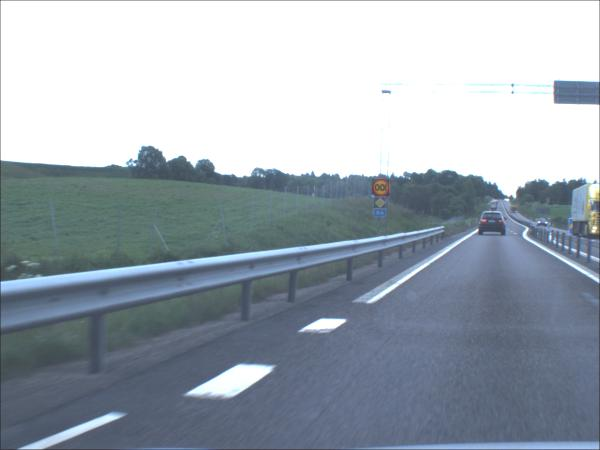100_SIGN: (372, 180, 390, 198)
PRIORITY_ROAD: (374, 199, 386, 210)
